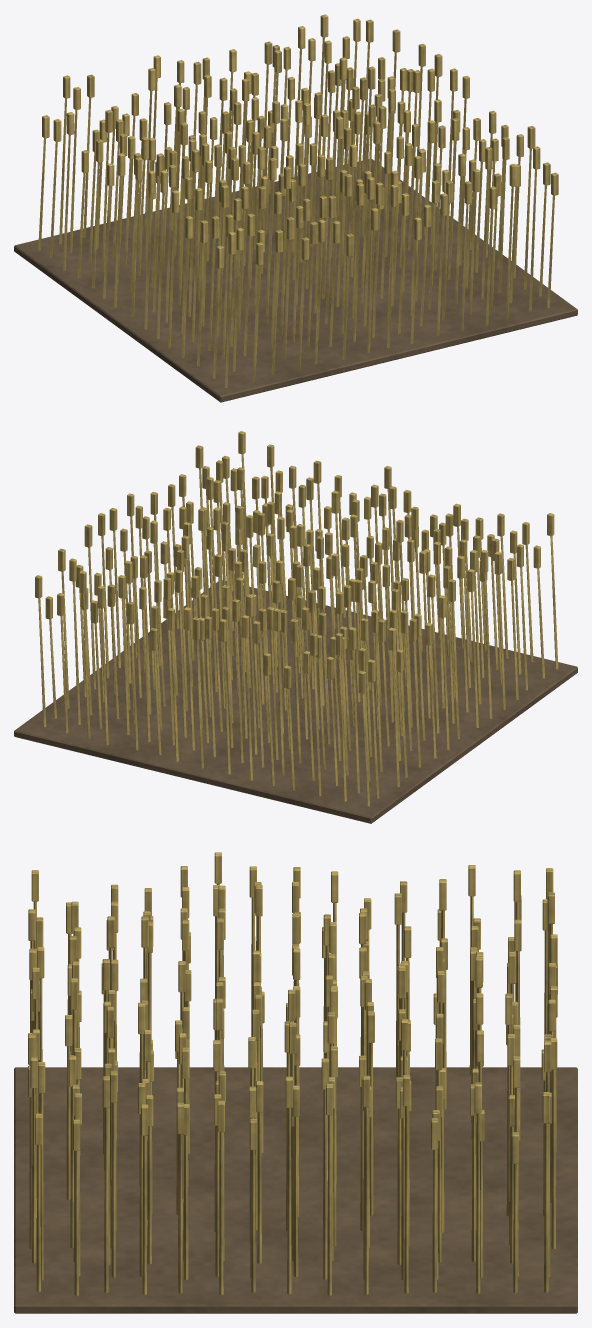
Rendered from SM_Pilot_WheatPatch2m.fbx.
3 views of the same model, one above another, from view 1: azimuth 30°, elevation 25°; view 2: azimuth 150°, elevation 25°; view 3: azimuth 270°, elevation 25° (orthographic). The views are drawn at different scales.
Visible parts, largest first — view 1: SM_Pilot_WheatPatch2m; view 2: SM_Pilot_WheatPatch2m; view 3: SM_Pilot_WheatPatch2m.
Boxes of the visible parts, box(x1,y1,x2,y2) form: SM_Pilot_WheatPatch2m: box(14, 14, 577, 402); SM_Pilot_WheatPatch2m: box(14, 431, 577, 823); SM_Pilot_WheatPatch2m: box(14, 852, 577, 1313).
Size of the model in its own units: 200 by 200 by 91.98.
2 materials, 2 textured.
